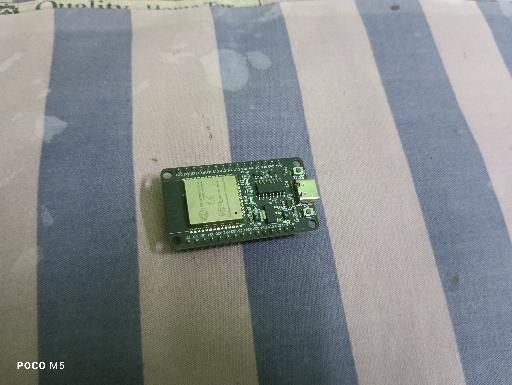Esp32: (161, 157, 320, 255)
